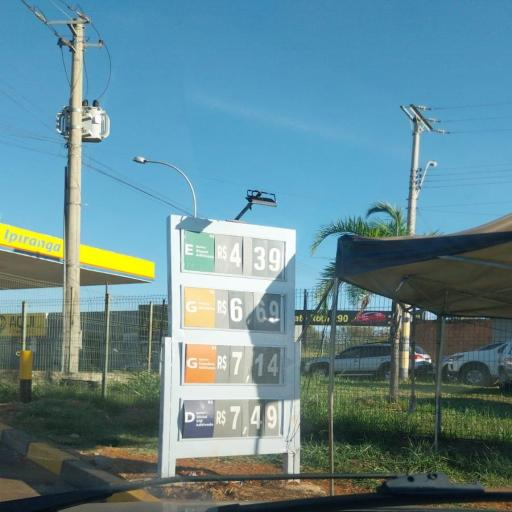ETANOL: (183, 230, 214, 270)
GASOLINA AD: (184, 344, 216, 385)
GASOLINA C: (182, 285, 215, 326)
S10: (179, 399, 215, 439)
placa: (161, 215, 300, 456)
preco: (225, 234, 284, 276), (228, 292, 282, 327), (230, 348, 280, 382), (228, 402, 278, 435)
